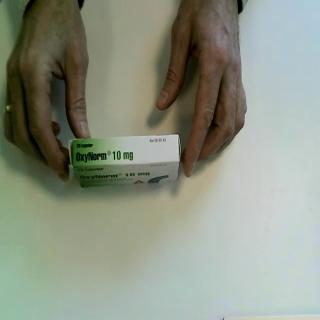oxynorm10mg: (69, 133, 182, 189)
